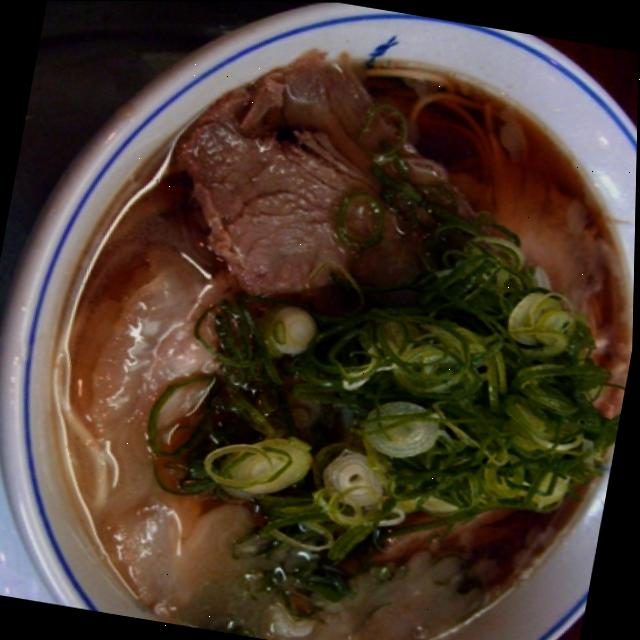面条主食: (17, 28, 640, 640)
